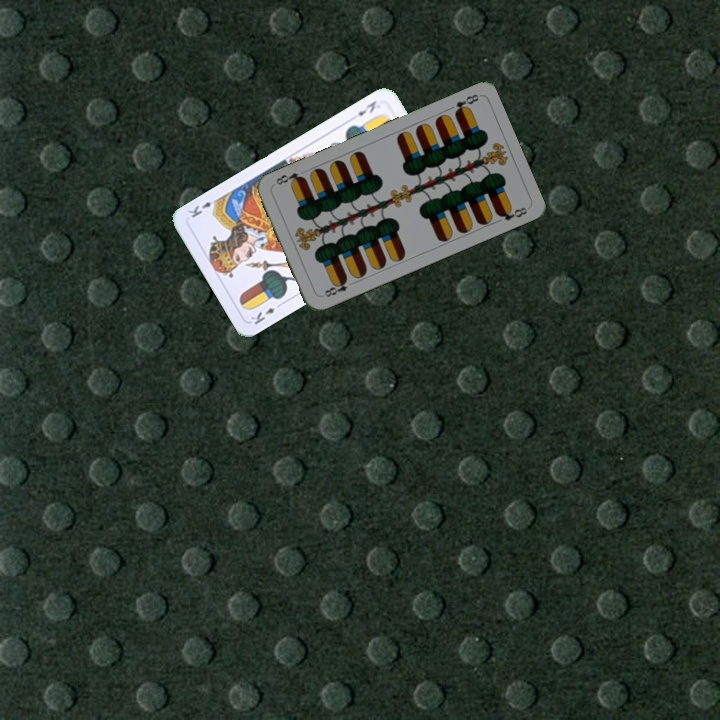E8: (443, 90, 482, 117), (318, 275, 350, 300)
EK: (246, 299, 285, 327), (353, 96, 379, 119)
